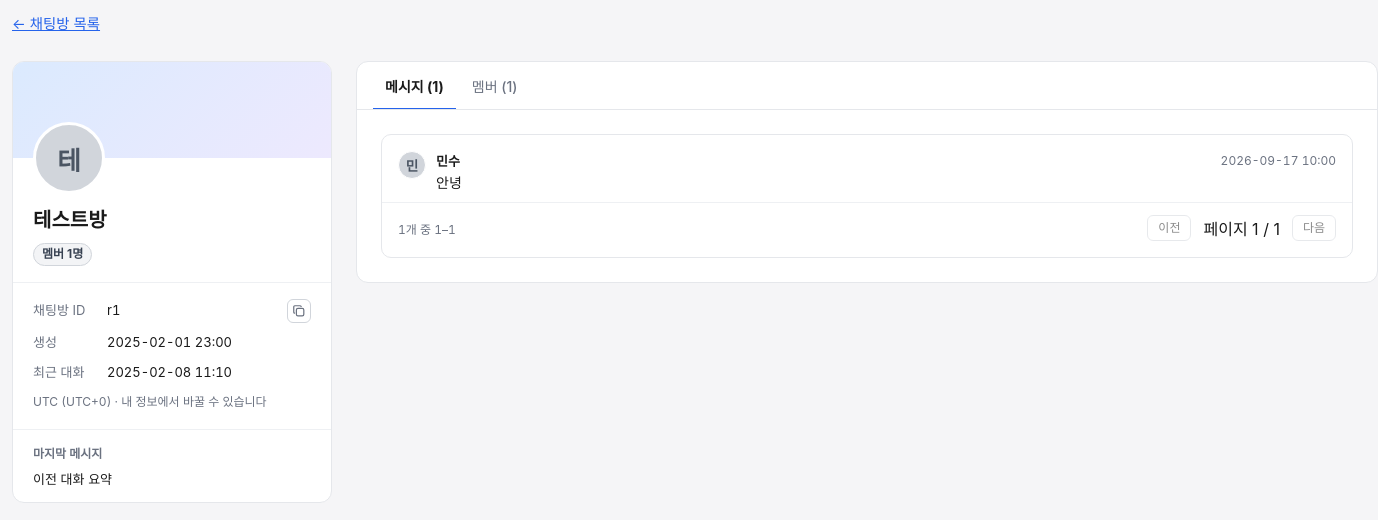
it: RoomDetailPage › has message and member tabs with counts; messages is the default
Expected: the text "안녕" is shown, [436, 174, 462, 191]
Click the tab "멤버 (1)" at x=495, y=86, box [460, 62, 530, 110]
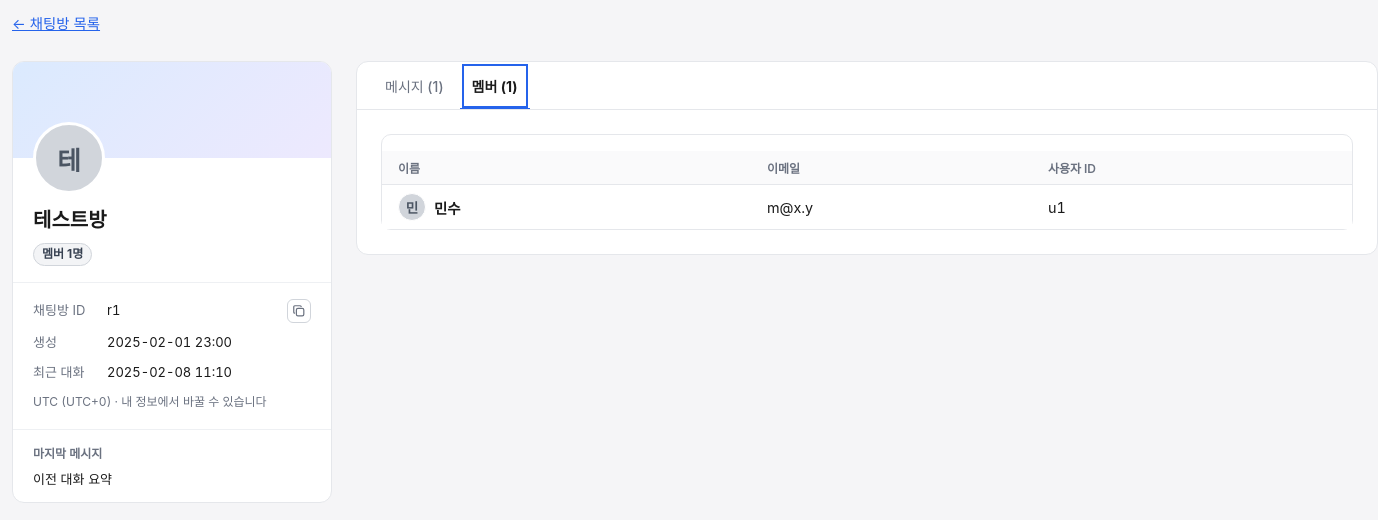
Now the text "안녕" is gone
Now the column headings read "이름", "이메일", "사용자 ID", in this order, box [382, 151, 757, 184]; [757, 151, 1038, 184]; [1038, 151, 1352, 184]
